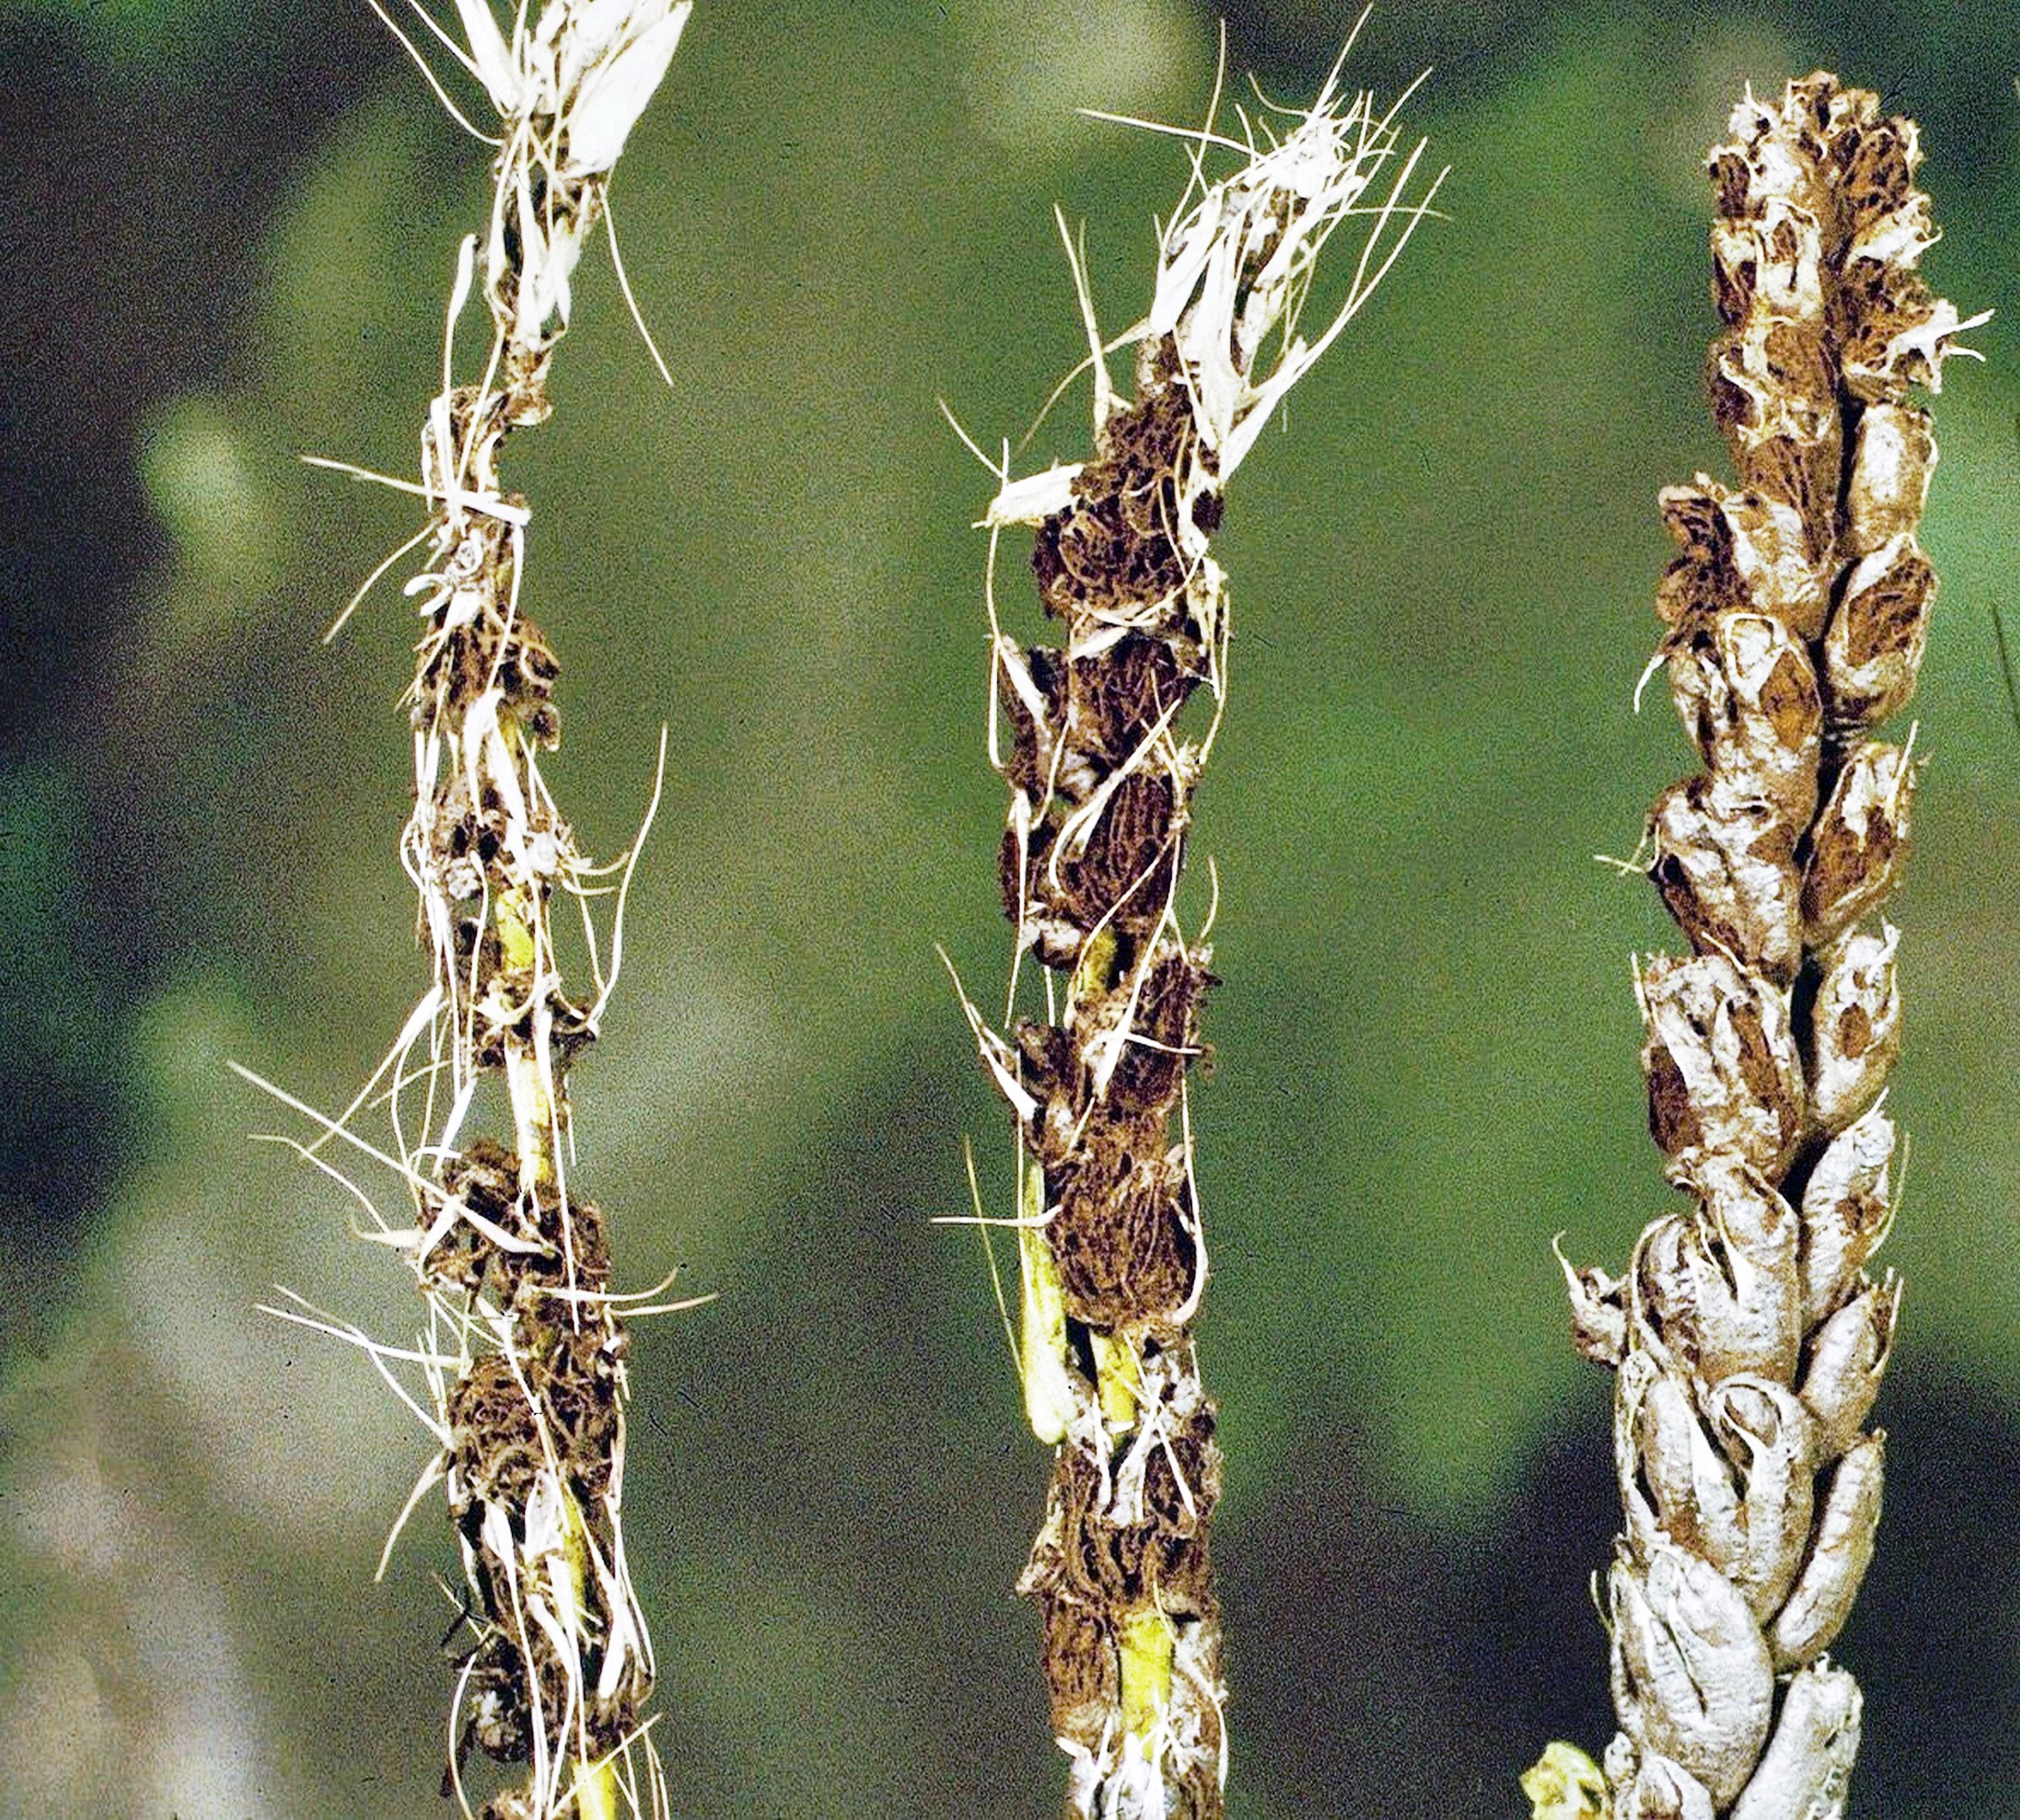Wheat Loose Smut: (875, 239, 1353, 1820), (1595, 53, 2020, 1802)
